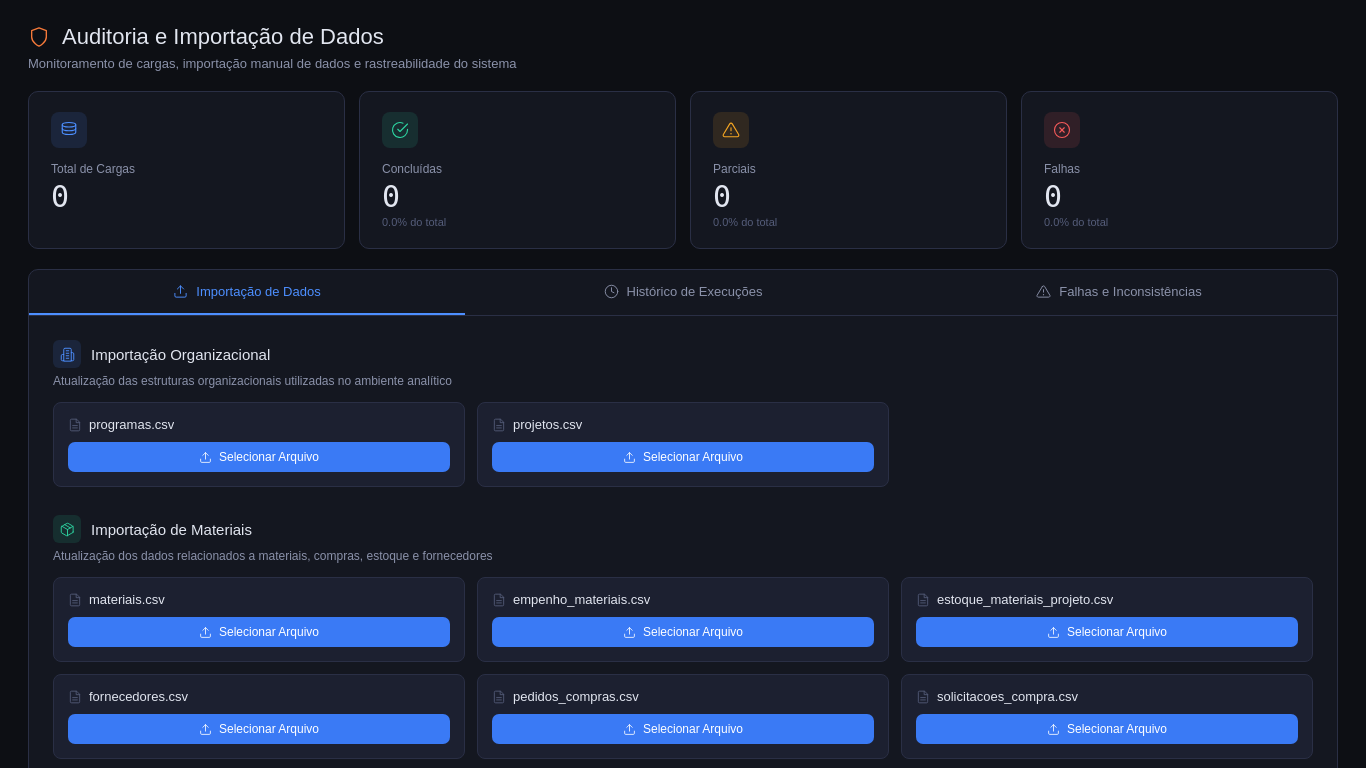
it: Auditoria.vue › Aba Falhas e Inconsistências › exibe estado vazio quando API retorna lista vazia
Step 1. Click the button with class "tab-btn" showing "Falhas e Inconsistências" → (1119, 292), box 901,270 -> 1337,315
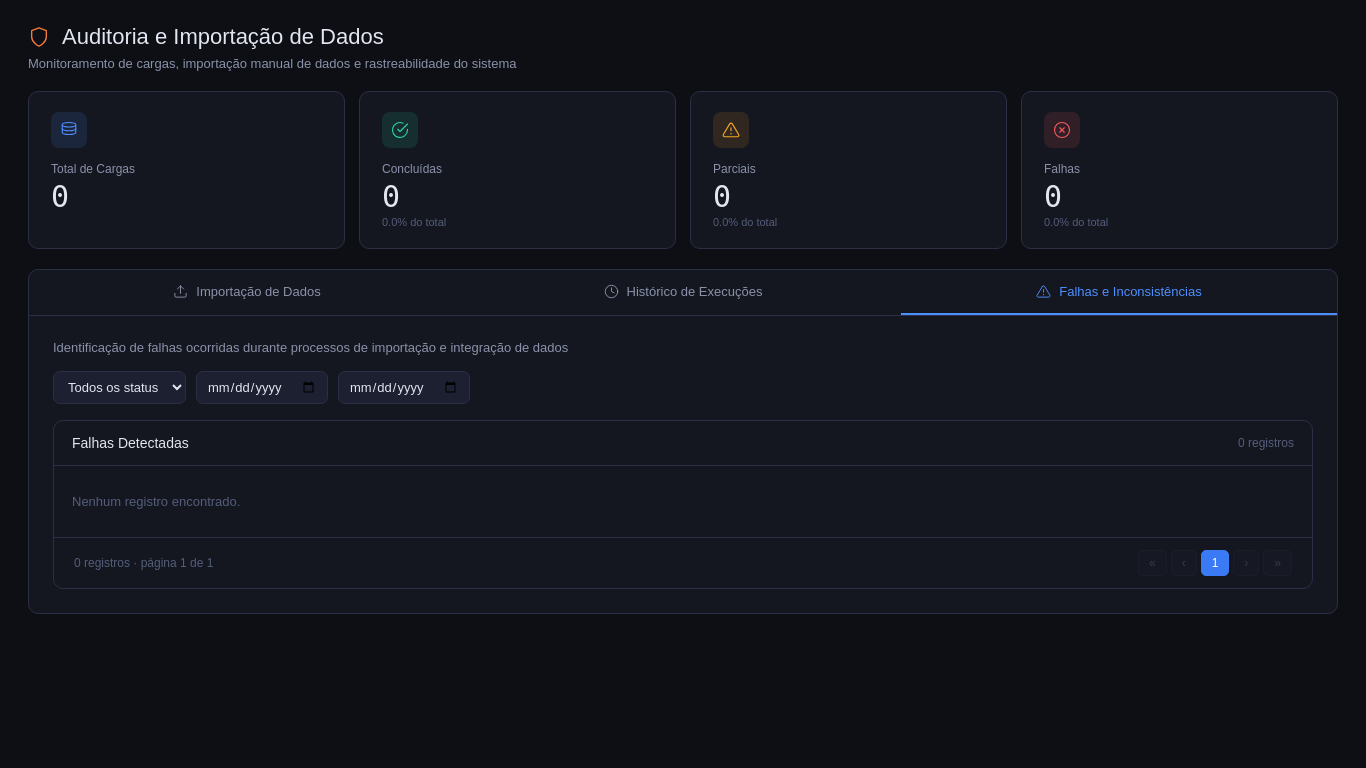
Expected: the text "Nenhum registro encontrado" is shown, 72,494 -> 240,509
